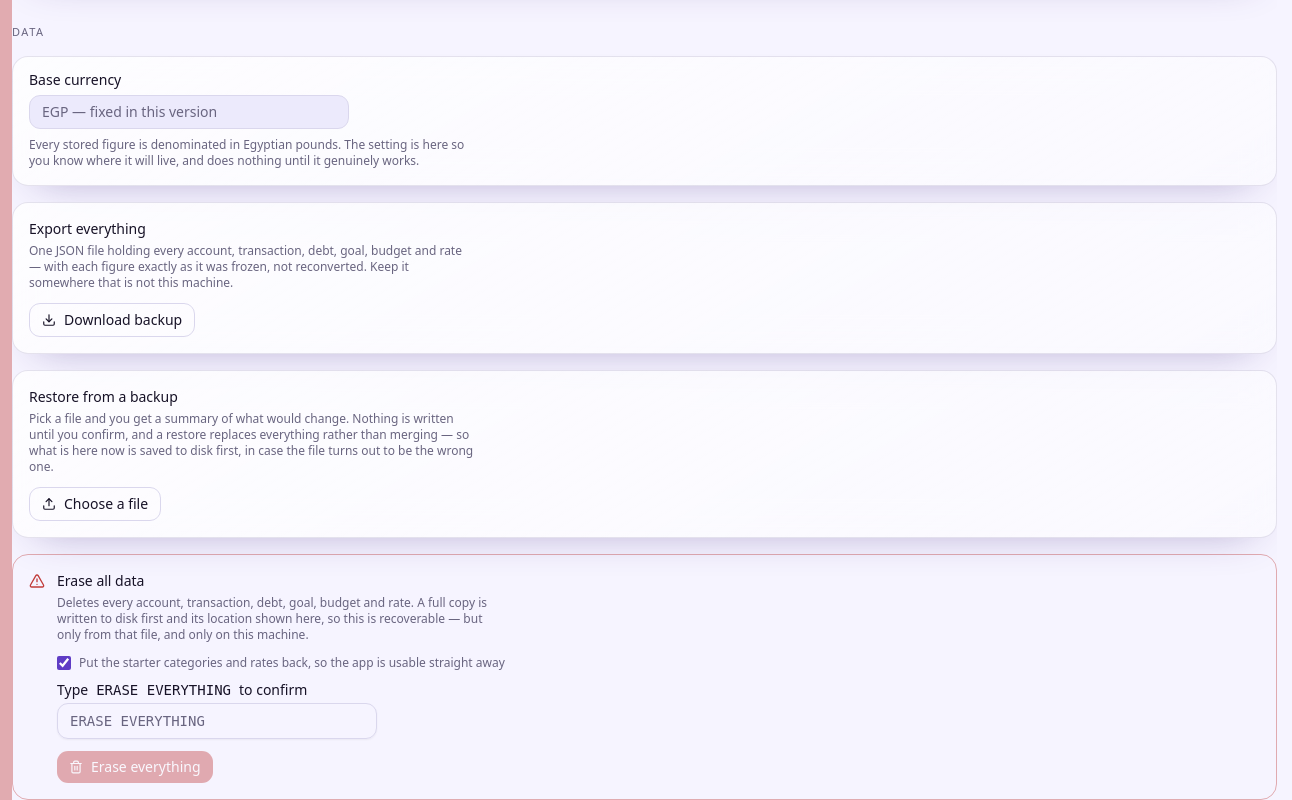
Test: erasing everything › stays disabled until the exact words are typed
The width and height of the screenshot is (1292, 800).
(page scrolled)
Expected: the button "Erase everything" is disabled, [57, 751, 212, 783]
In the field labelled "Type ERASE EVERYTHING to confirm": {"x": 217, "y": 721} [57, 703, 377, 739], type "erase everything"
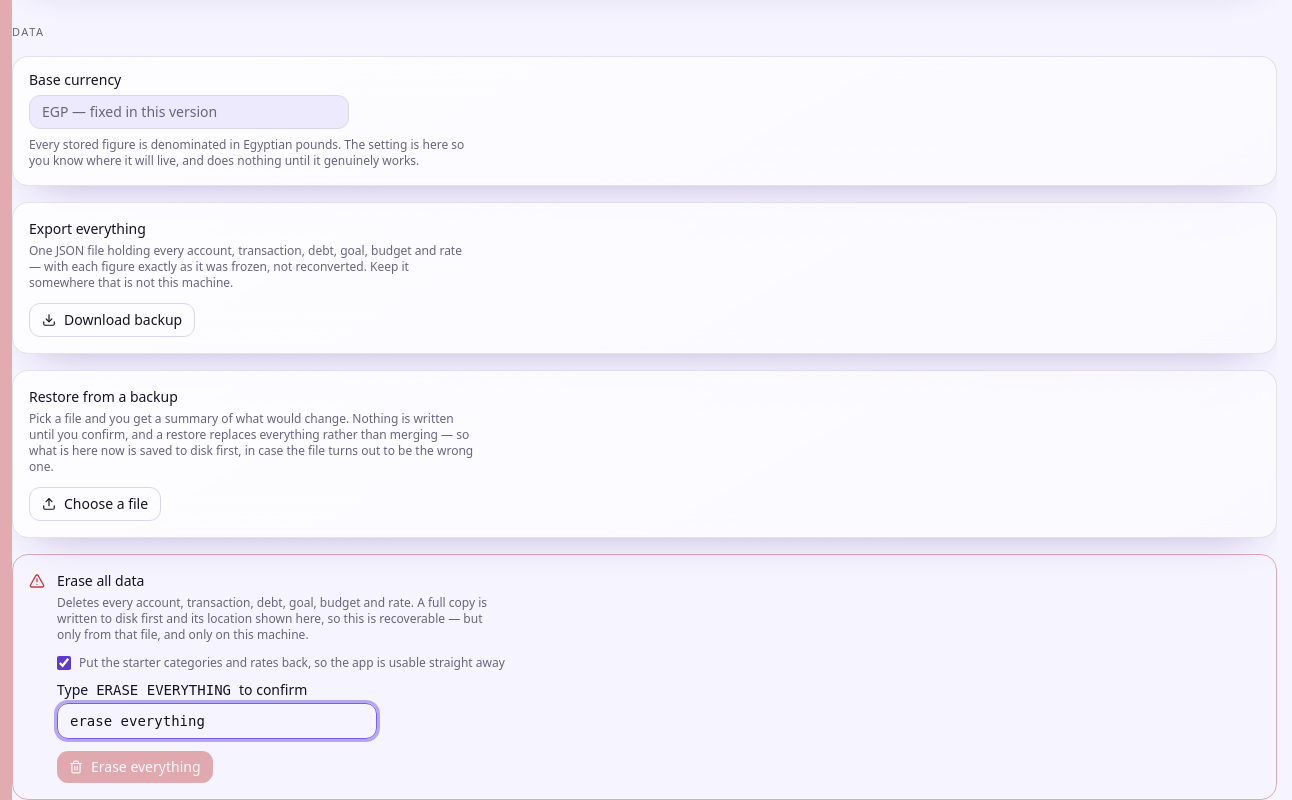
Expected: the button "Erase everything" is disabled, [57, 751, 212, 783]
Replace the text in the field labelled "Type ERASE EVERYTHING to confirm" with "ERASE EVERYTHING": {"x": 217, "y": 721} [57, 703, 377, 739]
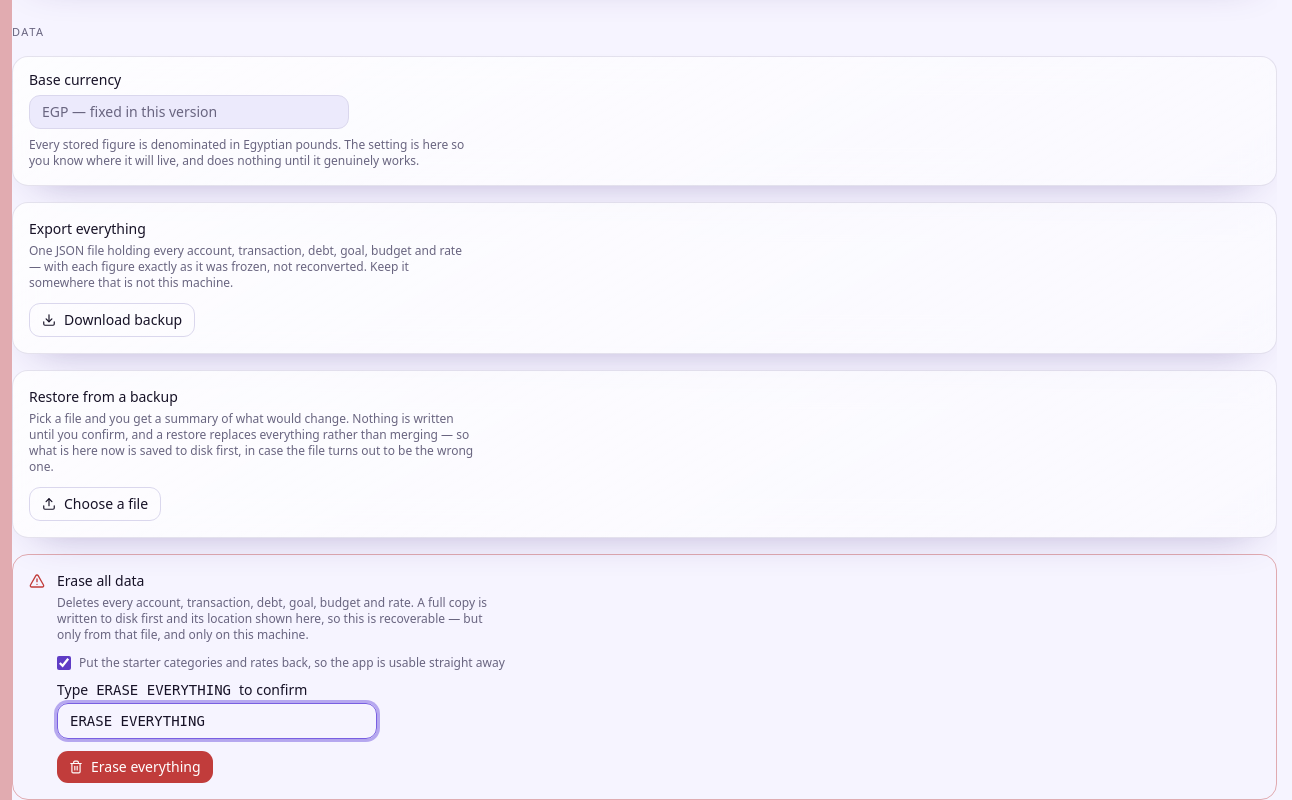
Expected: the button "Erase everything" is enabled, [57, 751, 212, 783]
